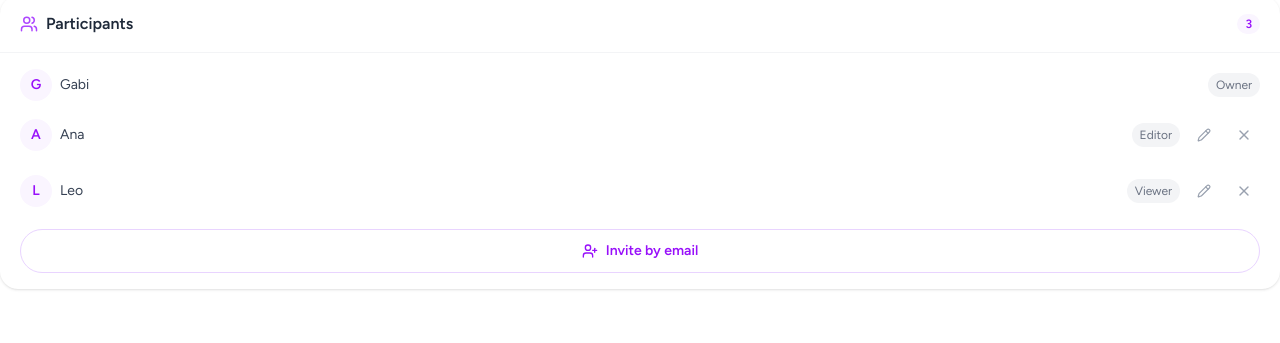
Scenario: Participants › changing roles › updates the role and refreshes the trip
Click the button named "Change role of Leo": coordinates (1204, 191) [1188,169,1220,213]
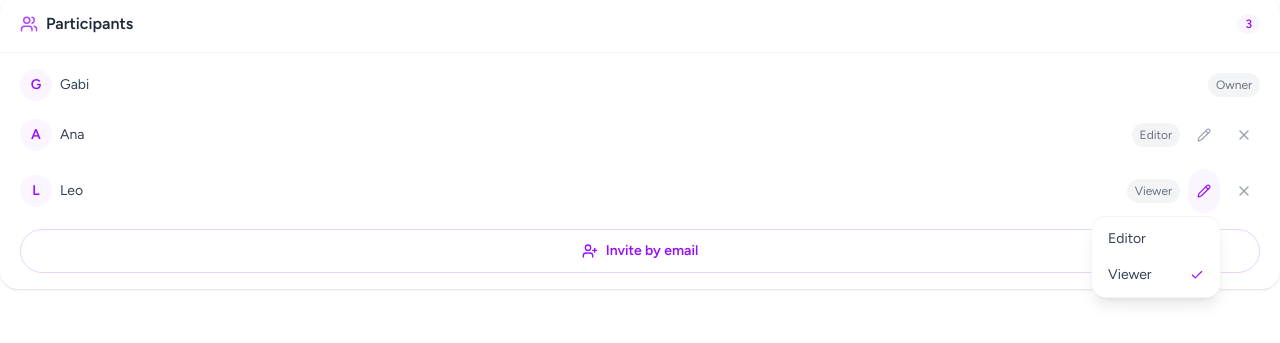
Click the menu item "Editor": coordinates (1127, 238) [1108,230,1146,247]
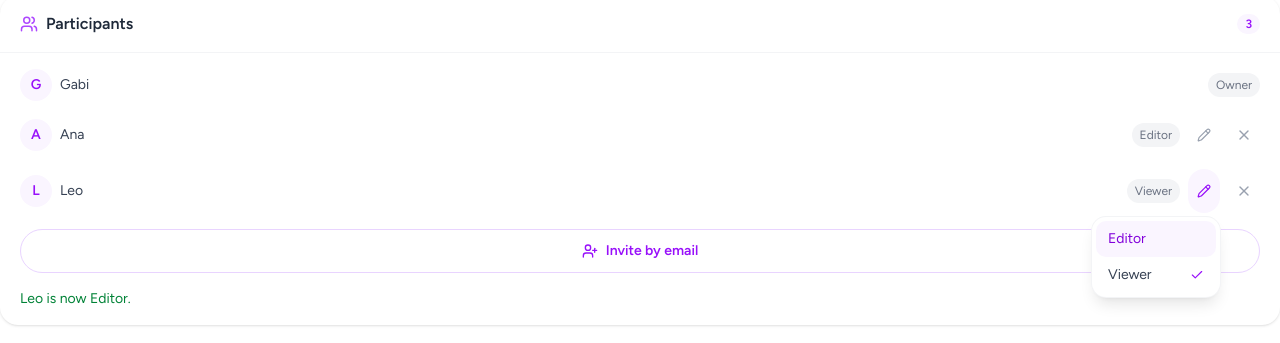
Now the message reads "Leo is now Editor.", box [20,290,131,307]
